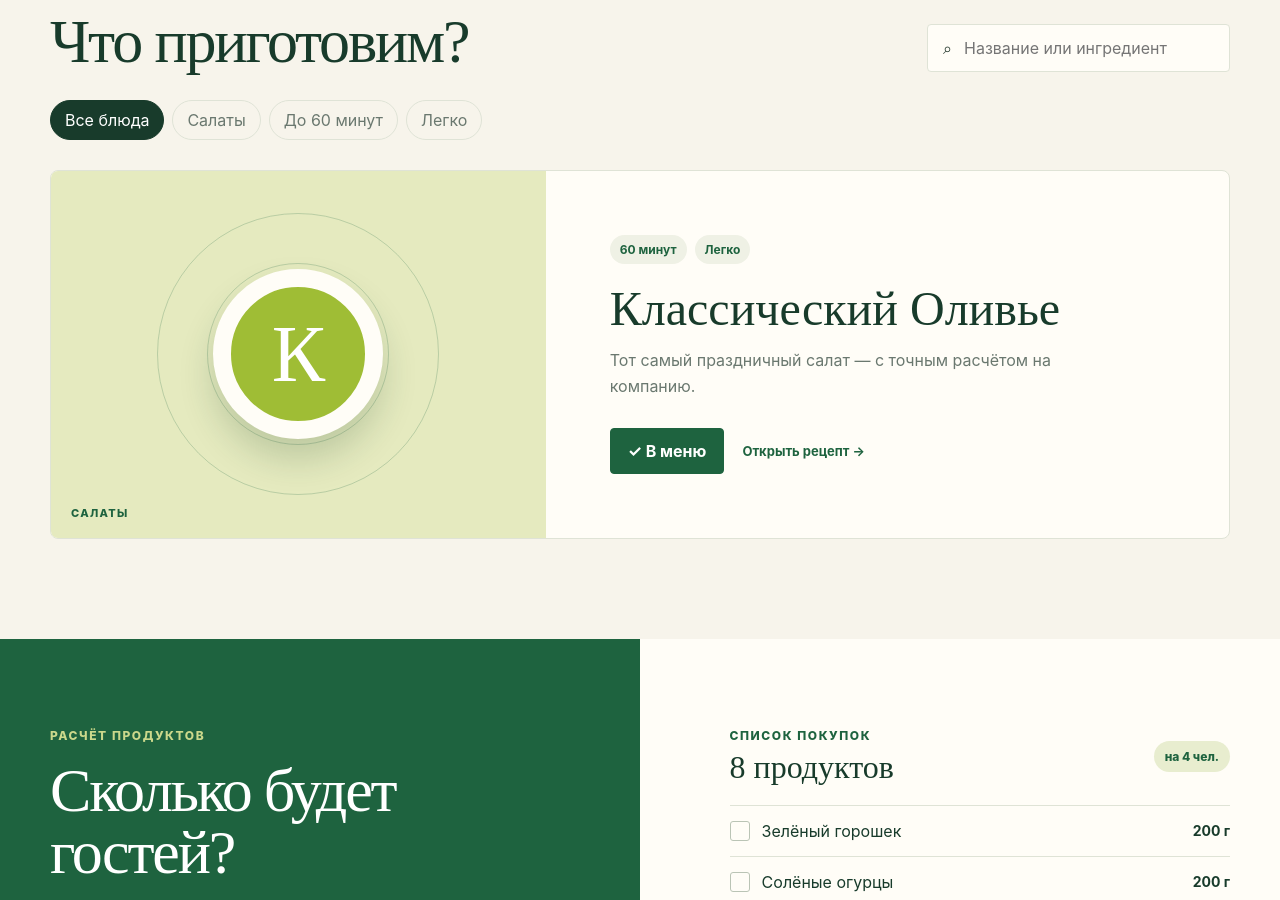
App › удаляет блюдо, блокирует экспорт и добавляет блюдо обратно
(page scrolled)
What coordinates should you click on to do the following:
click the button "✓ В меню"
I would click on:
 (667, 451)
Its box is [610,428,724,474].
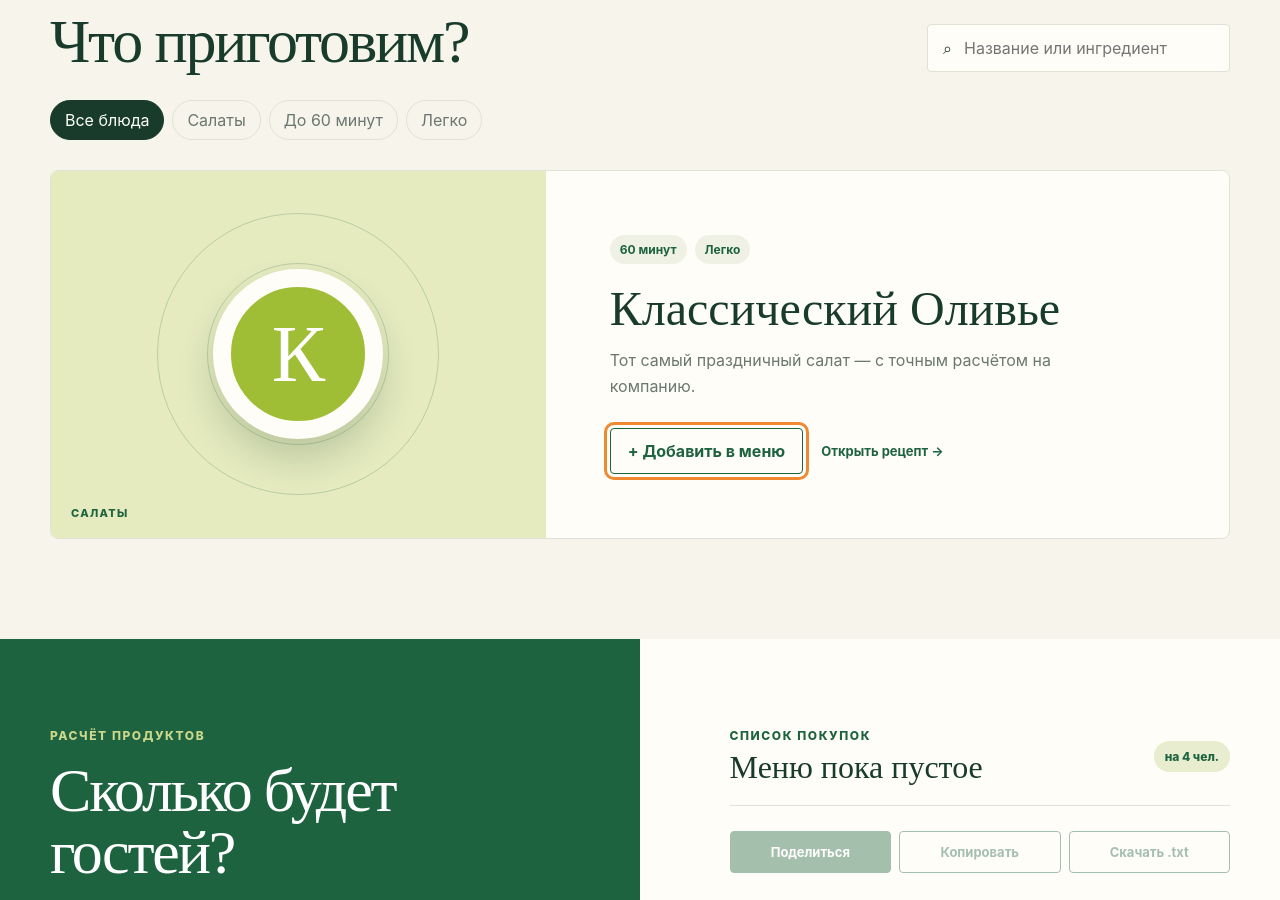
Now the heading "Меню пока пустое" is shown, box [730,751,983,785]
Now the button "Копировать" is disabled, box [899,831,1061,873]
What coordinates should you click on to do the following:
click the button "+ Добавить в меню"
I would click on:
 (706, 451)
Its box is [610,428,803,474].
(page scrolled)
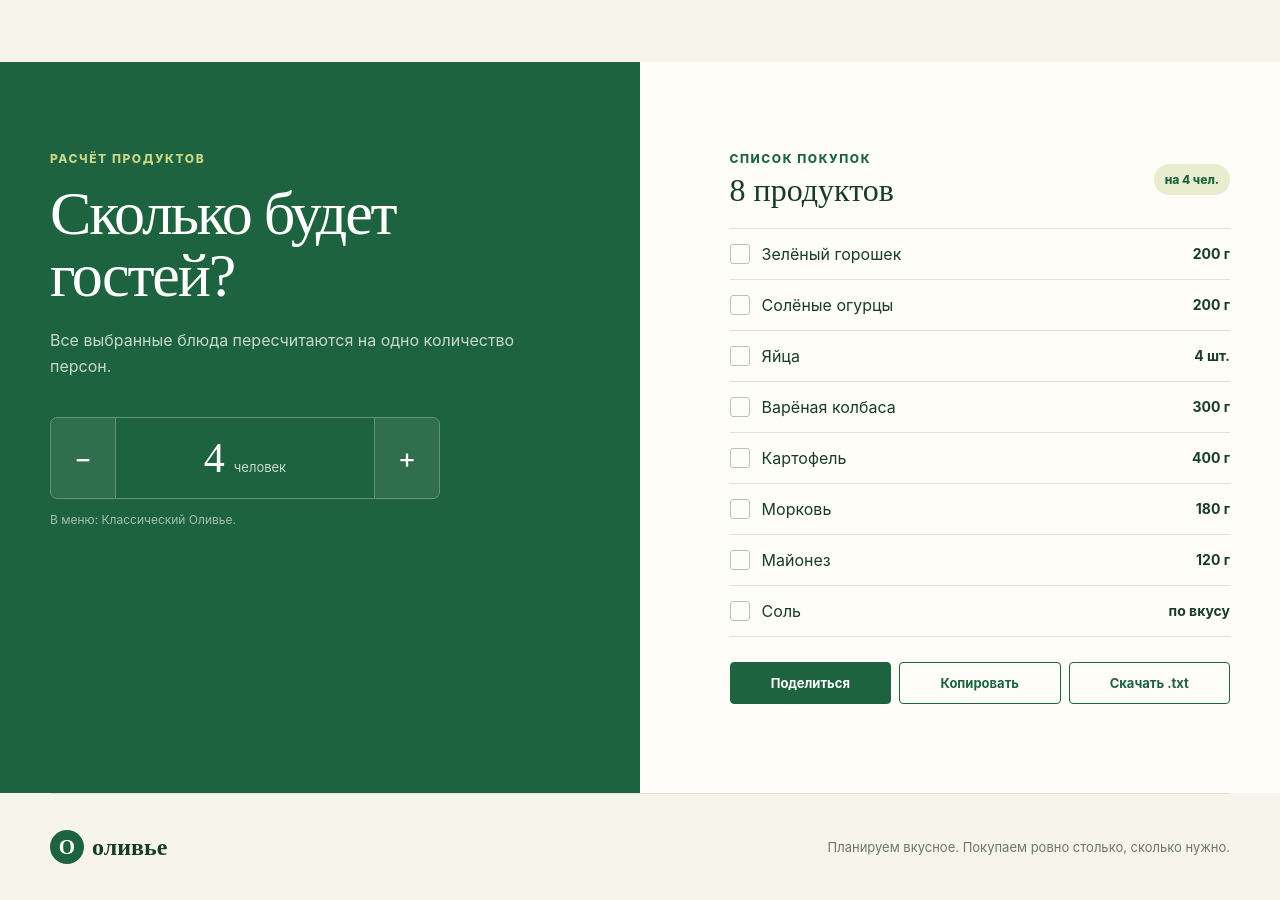
Now the button "Копировать" is enabled, box [899,662,1061,704]
Now the text "В меню: Классический Оливье." is shown, box [50,512,236,527]
